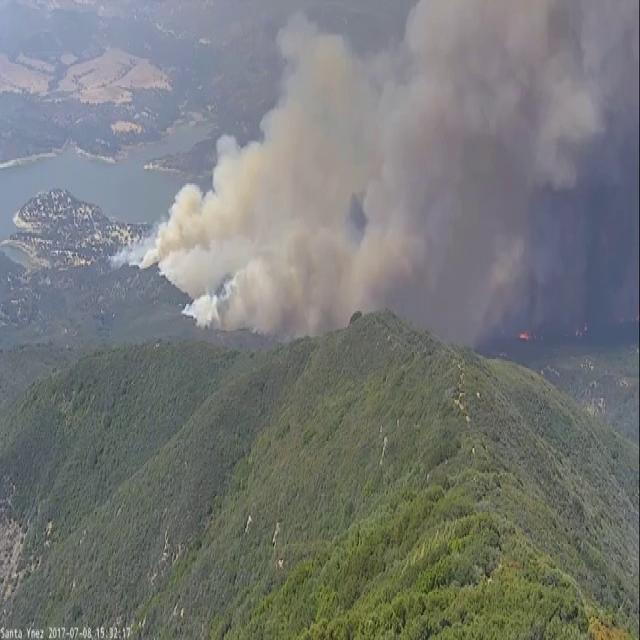Fire: (518, 329, 532, 345)
Smoke: (109, 11, 633, 352), (110, 132, 245, 340), (222, 201, 358, 347), (381, 272, 503, 359), (153, 174, 204, 270), (186, 276, 220, 330), (109, 229, 128, 265)
